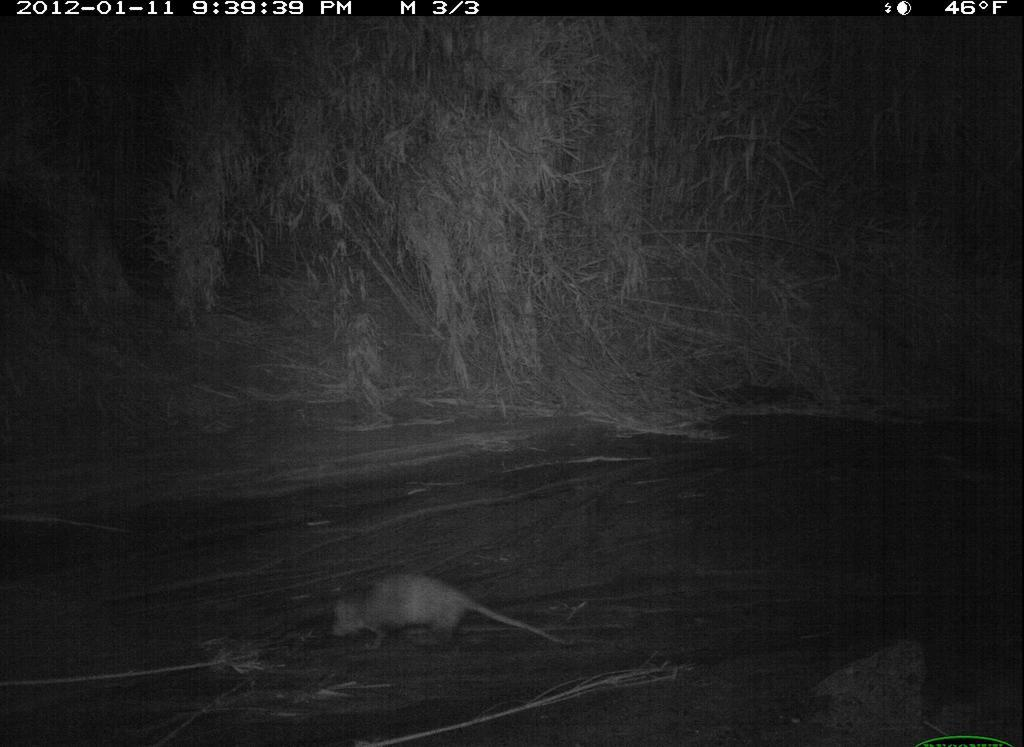opossum: (322, 569, 585, 662)
